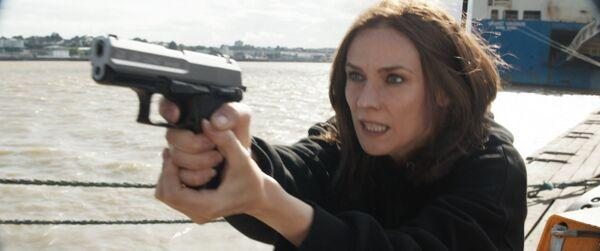Gun: (89, 36, 244, 191)
